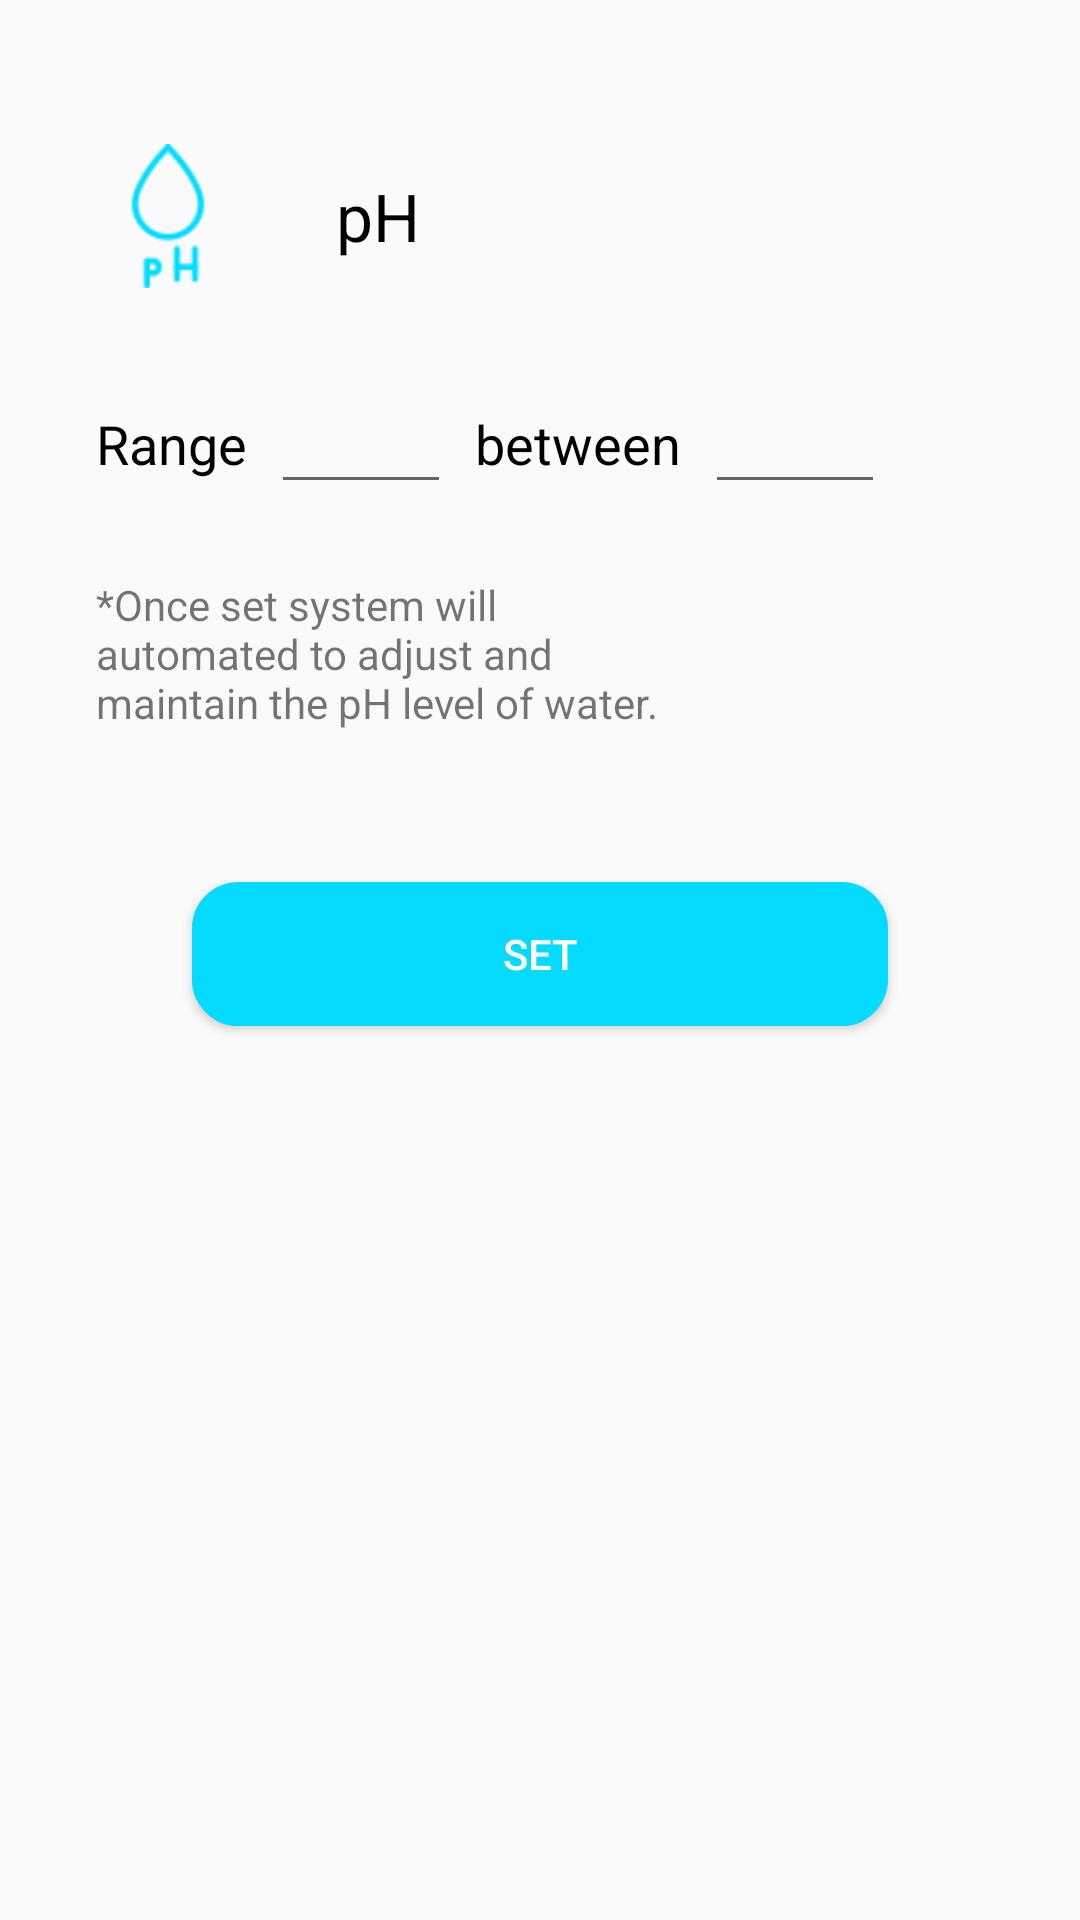

Screen size 1080w x 1920h. Icon name, then its center in pixels as (x=x, y=y):
drop: (x=168, y=216)
